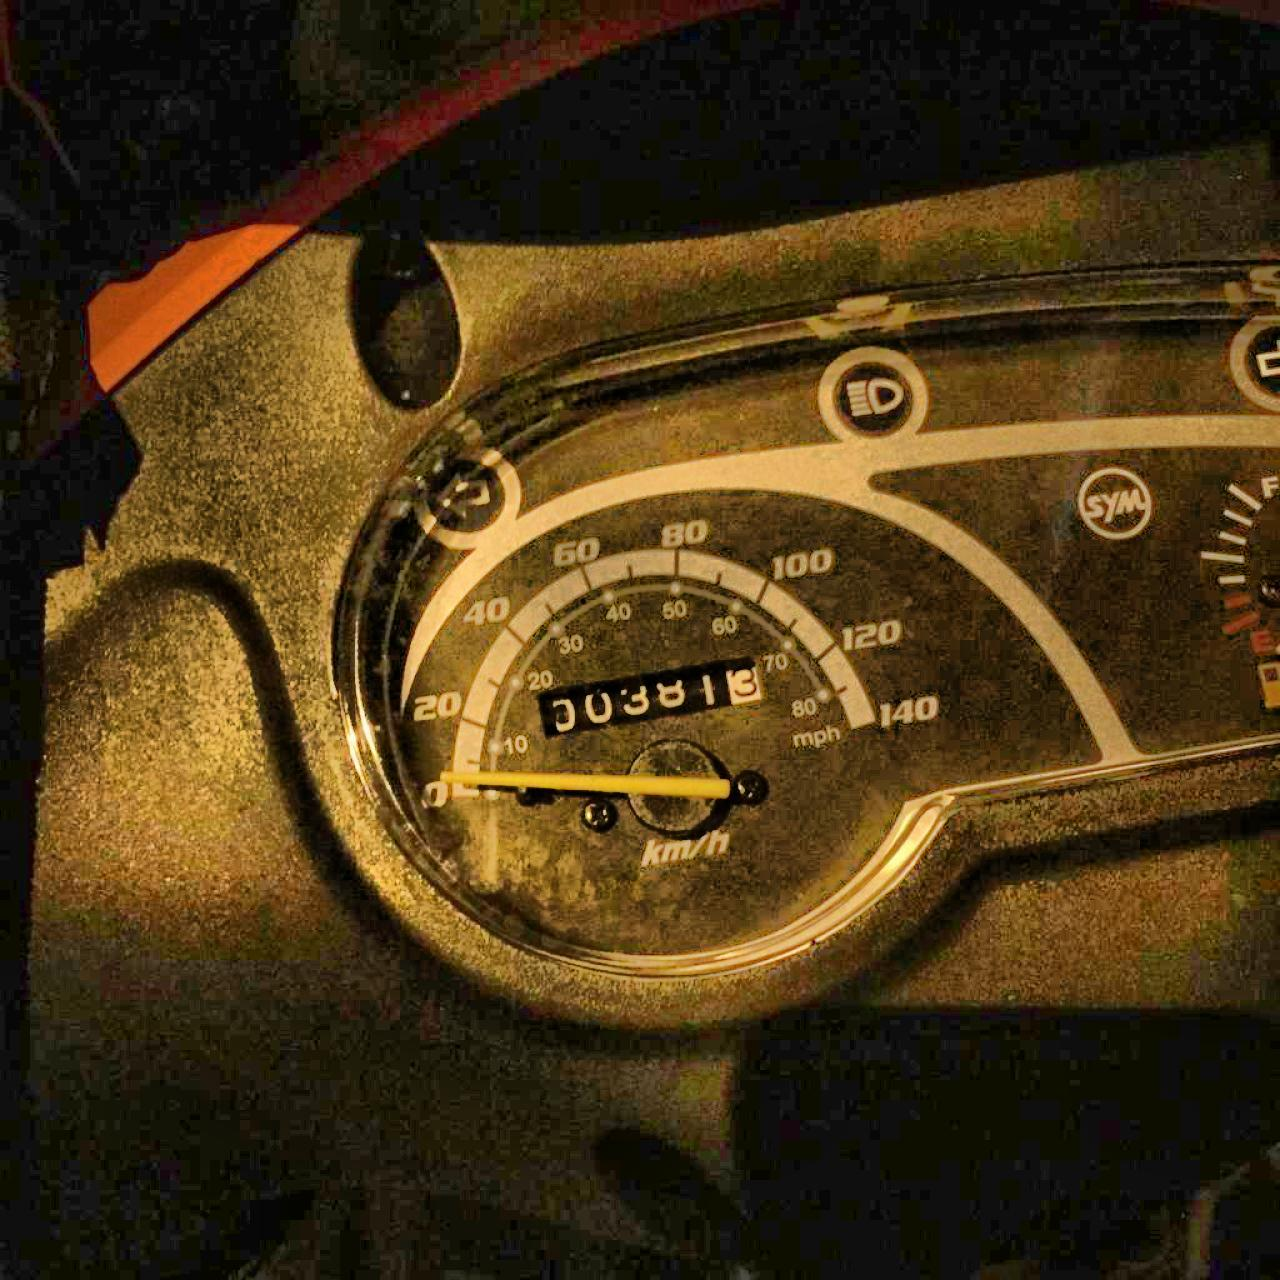0: (584, 688, 611, 722), (550, 697, 576, 731), (538, 670, 553, 688)
1: (700, 673, 714, 703)
3: (619, 679, 647, 715), (730, 665, 756, 696)
8: (654, 673, 685, 708)
odometer: (538, 660, 767, 734)
